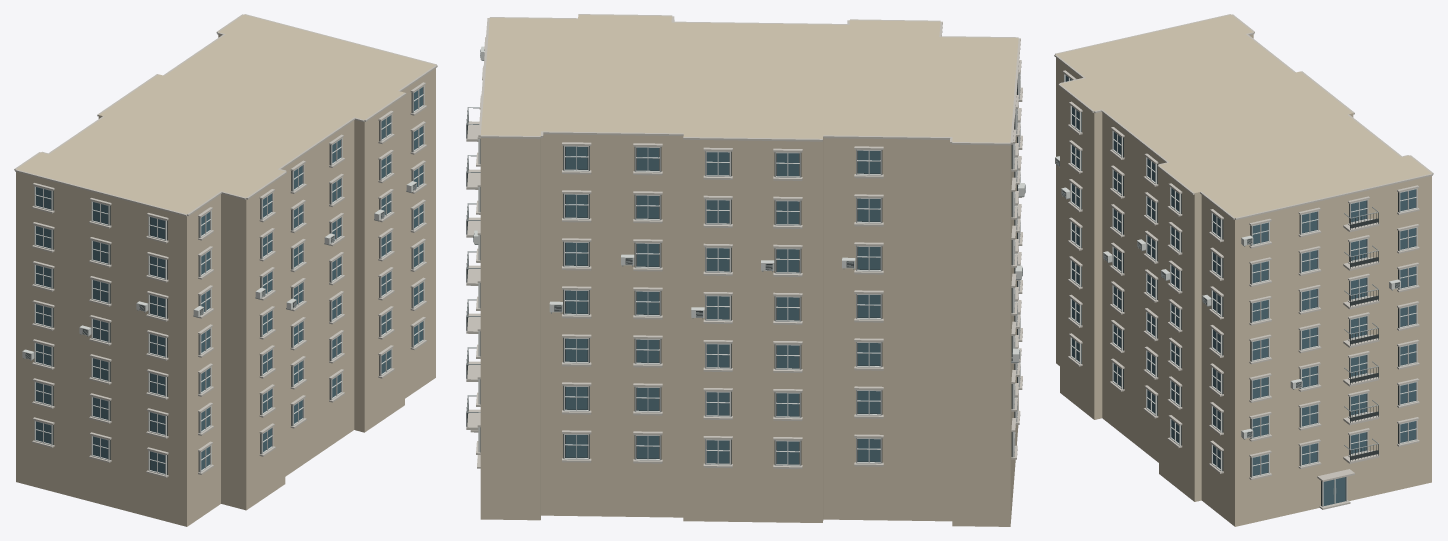
The model's file is completion-1115814080.glb.
3 renders of one model, left to right at view 1: azimuth 30°, elevation 25°; view 2: azimuth 150°, elevation 25°; view 3: azimuth 270°, elevation 25°, orthographic. The views are drawn at different scales.
Visible parts, largest first — view 1: 1115814080 Block 1115814080 mineral plaster, 1115814080 glass, 1115814080 frame, 1115814080 stone, 1115814080 dark; view 2: 1115814080 Block 1115814080 mineral plaster, 1115814080 glass, 1115814080 stone, 1115814080 frame, 1115814080 dark, 1115814080 steel; view 3: 1115814080 Block 1115814080 mineral plaster, 1115814080 glass, 1115814080 frame, 1115814080 stone, 1115814080 dark, 1115814080 steel.
Part boxes in pixels (<box>): 1115814080 Block 1115814080 mineral plaster: <box>16,14,435,526</box>; 1115814080 glass: <box>36,87,422,473</box>; 1115814080 frame: <box>22,85,424,475</box>; 1115814080 stone: <box>14,14,437,477</box>; 1115814080 dark: <box>25,93,422,474</box>; 1115814080 Block 1115814080 mineral plaster: <box>480,15,1018,526</box>; 1115814080 glass: <box>565,146,880,464</box>; 1115814080 stone: <box>466,14,1022,468</box>; 1115814080 frame: <box>474,46,1024,466</box>; 1115814080 dark: <box>466,49,1025,465</box>; 1115814080 steel: <box>466,50,1025,412</box>; 1115814080 Block 1115814080 mineral plaster: <box>1056,14,1431,526</box>; 1115814080 glass: <box>1065,75,1415,505</box>; 1115814080 frame: <box>1055,73,1417,506</box>; 1115814080 stone: <box>1054,14,1433,509</box>; 1115814080 dark: <box>1056,112,1415,506</box>; 1115814080 steel: <box>1056,160,1399,494</box>.
Size of the model in its own units: 36.49 by 25.6 by 28.5.
